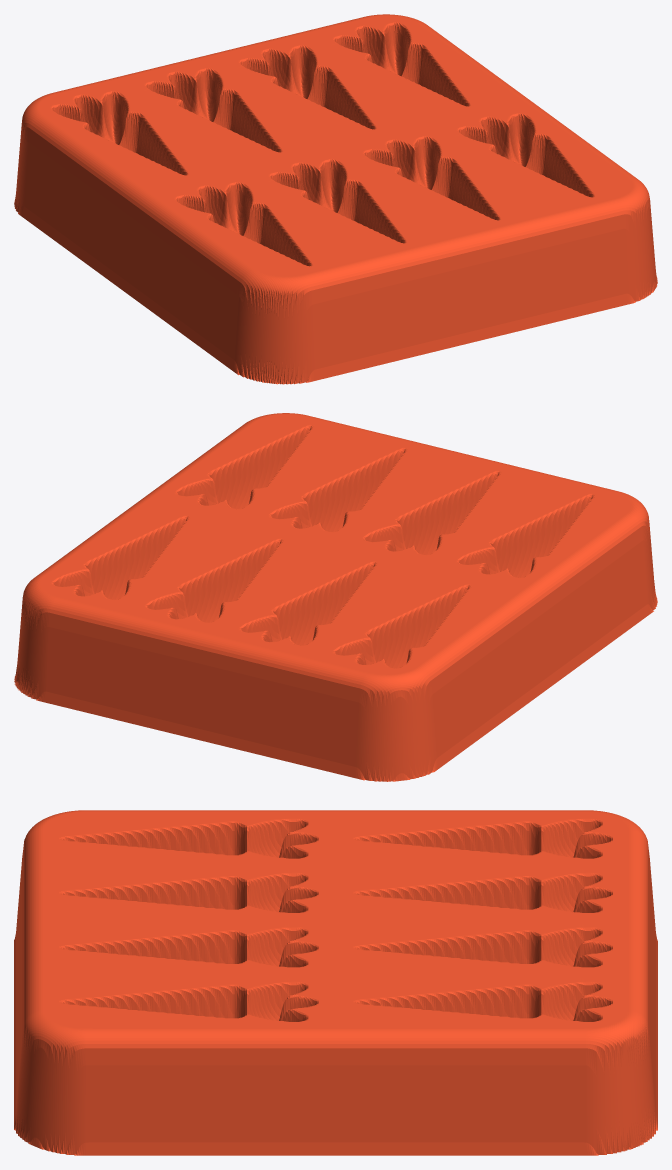
The model's file is mold.glb.
The picture shows the model from 3 angles, top to bottom: view 1: azimuth 30°, elevation 25°; view 2: azimuth 150°, elevation 25°; view 3: azimuth 270°, elevation 25°; orthographic projection. The views are drawn at different scales.
Visible parts, largest first — view 1: geometry_0; view 2: geometry_0; view 3: geometry_0.
Boxes of the visible parts, bbox=[...] form: geometry_0: bbox=[14, 14, 657, 384]; geometry_0: bbox=[14, 413, 657, 781]; geometry_0: bbox=[14, 810, 657, 1155].
Size of the model in its own units: 0.0717 by 0.0159 by 0.0809.
